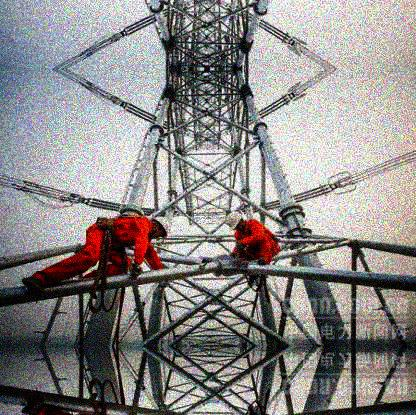helmet: (148, 212, 172, 239), (224, 211, 249, 235)
